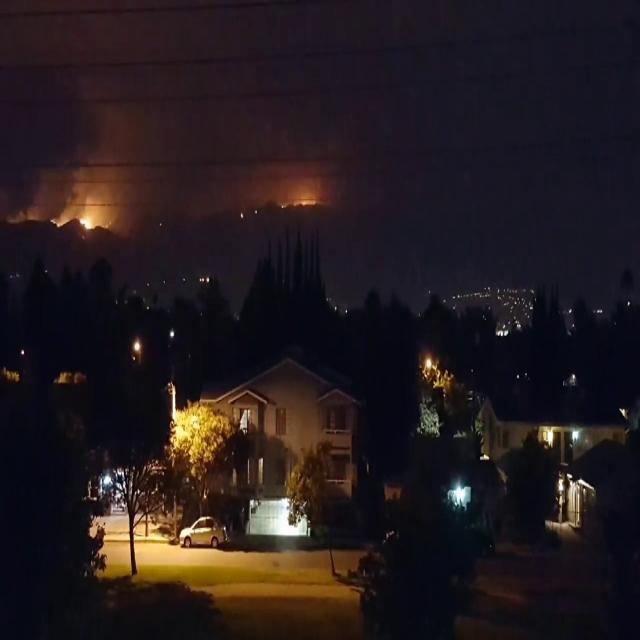Fire: (80, 214, 96, 230), (50, 216, 70, 228)
Smoke: (4, 8, 336, 238)
